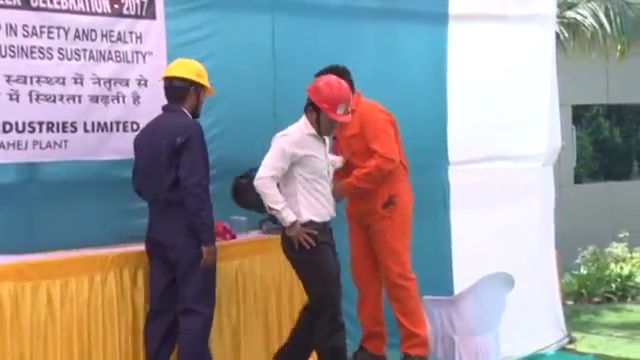helmet: (305, 72, 353, 122), (161, 55, 215, 96)
helmet_on: (159, 53, 214, 120), (303, 69, 355, 138)
person: (314, 64, 431, 360), (258, 70, 350, 360), (134, 54, 218, 360)
